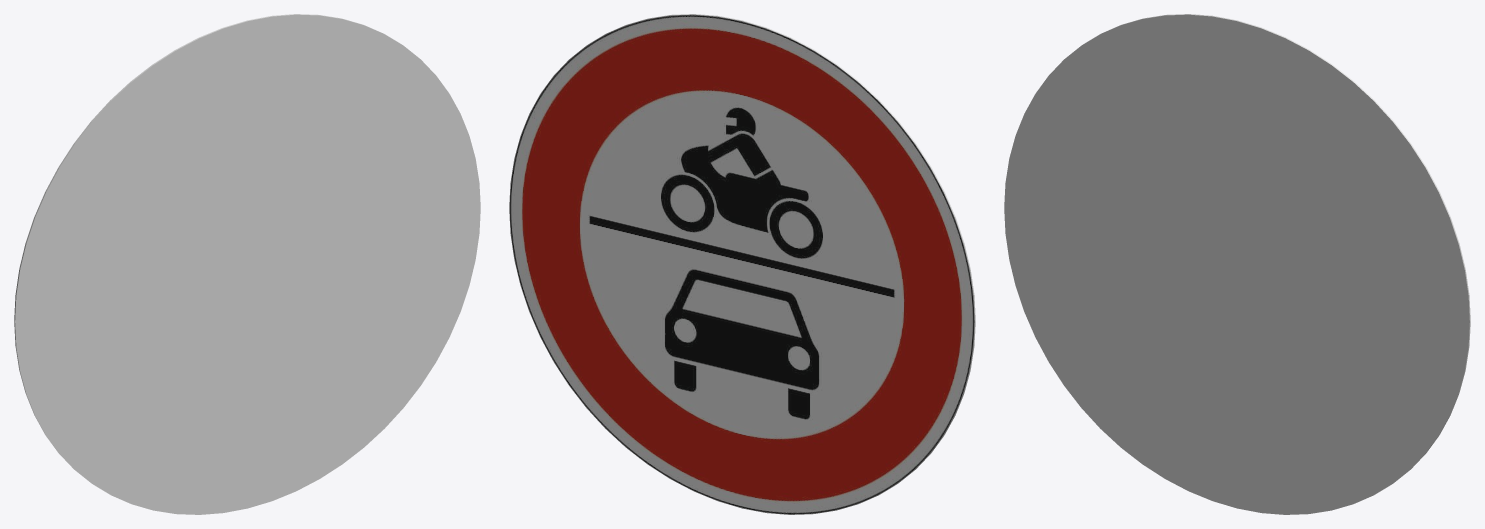
The picture shows the model from 3 angles, left to right: view 1: azimuth 30°, elevation 25°; view 2: azimuth 150°, elevation 25°; view 3: azimuth 330°, elevation 25°; orthographic projection.
Visible parts, largest first — view 1: Circle; view 2: Circle; view 3: Circle.
Part boxes in pixels (left/top/right/bottom): Circle: left=14, top=14, right=480, bottom=514; Circle: left=509, top=14, right=975, bottom=514; Circle: left=1004, top=14, right=1470, bottom=514.
Bounding box in the file's own units: 0.6 × 0.6 × 0.002.
2 materials, 1 textured.
